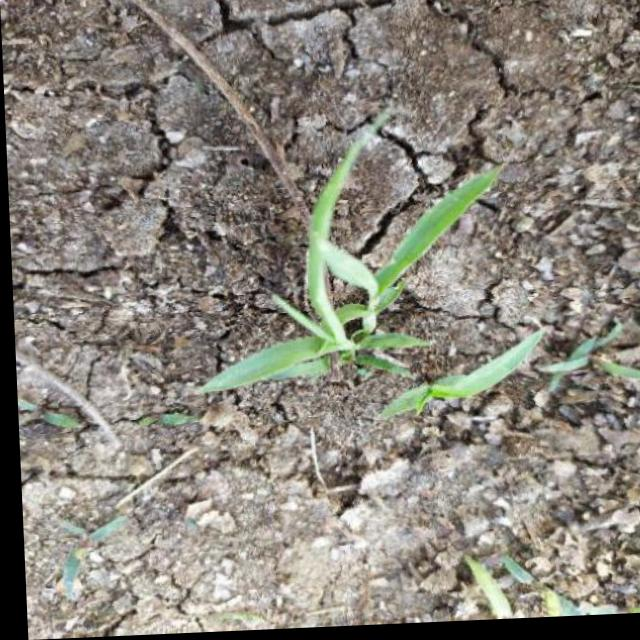weed: (169, 104, 552, 503)
